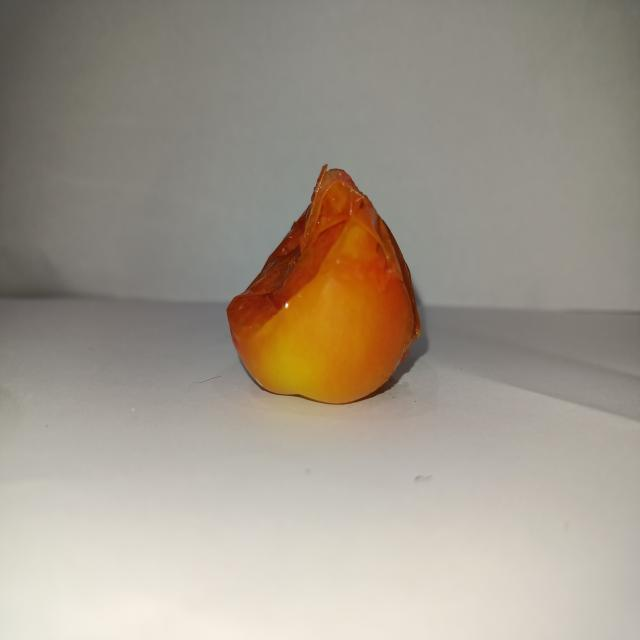Red: (225, 162, 422, 405)
